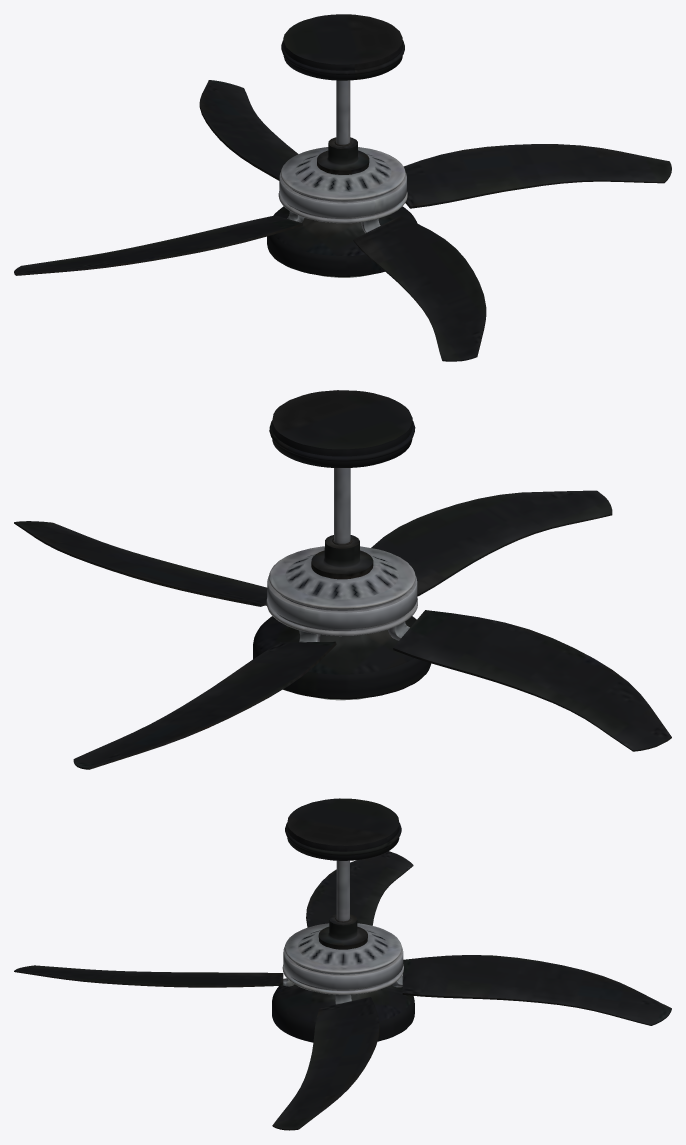
Rendered from ceiling_fan.glb.
3 views of the same model, one above another, from view 1: azimuth 30°, elevation 25°; view 2: azimuth 150°, elevation 25°; view 3: azimuth 270°, elevation 25° (orthographic). The views are drawn at different scales.
Parts seen in each view (by area): view 1: ceiling_fan_blades, ceiling_fan; view 2: ceiling_fan_blades, ceiling_fan; view 3: ceiling_fan_blades, ceiling_fan.
Part boxes in pixels (left/top/right/bottom): ceiling_fan_blades: left=14, top=80, right=671, bottom=361; ceiling_fan: left=267, top=14, right=417, bottom=277; ceiling_fan_blades: left=14, top=490, right=671, bottom=769; ceiling_fan: left=253, top=390, right=431, bottom=700; ceiling_fan_blades: left=14, top=851, right=671, bottom=1130; ceiling_fan: left=272, top=798, right=414, bottom=1042.
Bounding box in the file's own units: 1.46 × 0.5163 × 1.46.
1 material, 1 textured.
